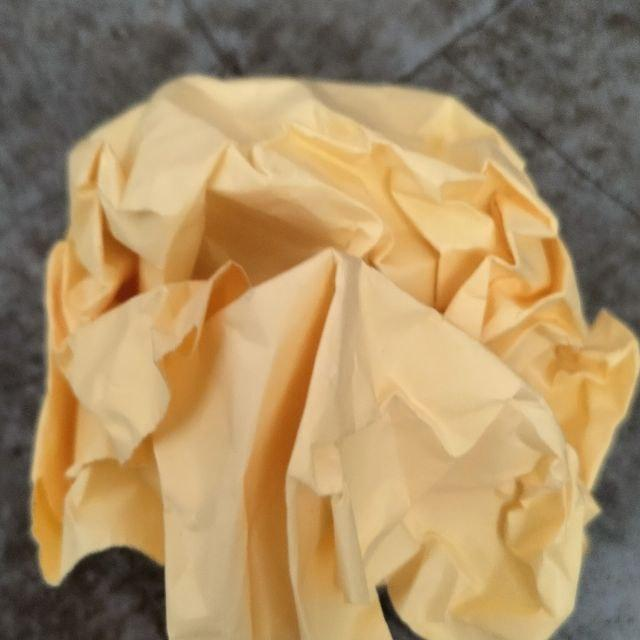paper: (30, 47, 628, 640)
